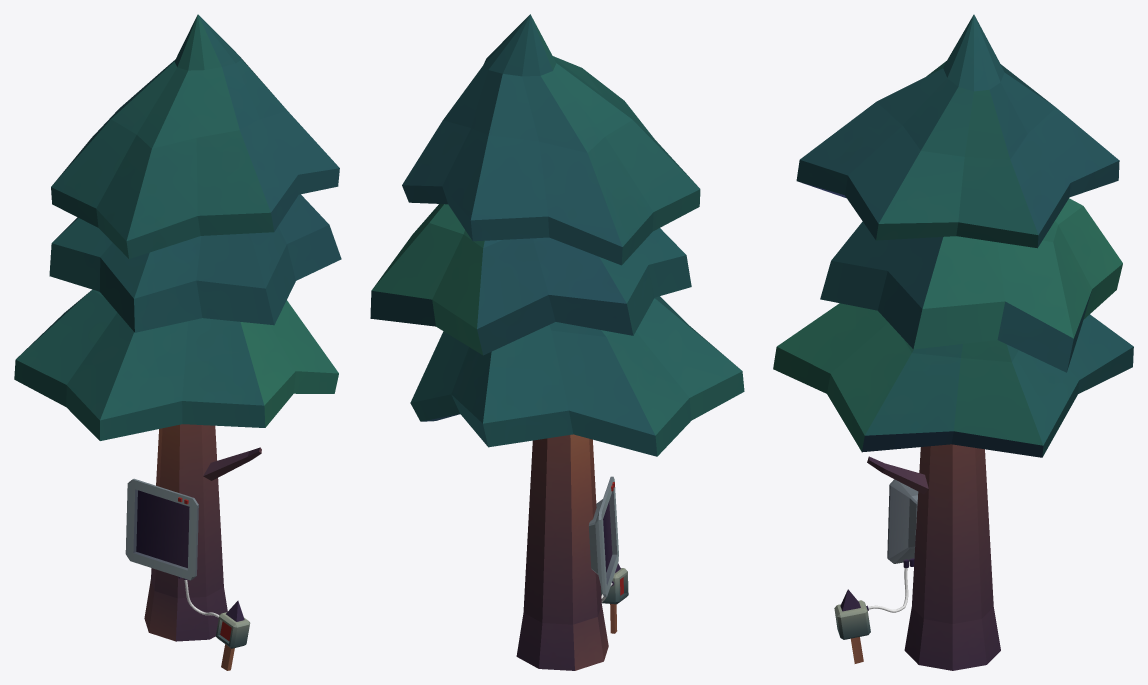
File: Tree_Terminal-01.fbx
3 views of the same model, side by side, from view 1: azimuth 30°, elevation 25°; view 2: azimuth 150°, elevation 25°; view 3: azimuth 270°, elevation 25° (orthographic). The views are drawn at different scales.
Parts seen in each view (by area): view 1: PineTreeLeaves.001; view 2: PineTreeLeaves.001; view 3: PineTreeLeaves.001.
Boxes of the visible parts, x1,y1,x2,y2 form: PineTreeLeaves.001: (14,14,341,670); PineTreeLeaves.001: (370,14,744,670); PineTreeLeaves.001: (773,14,1133,670).
Size of the model in its own units: 178 by 388 by 192.
